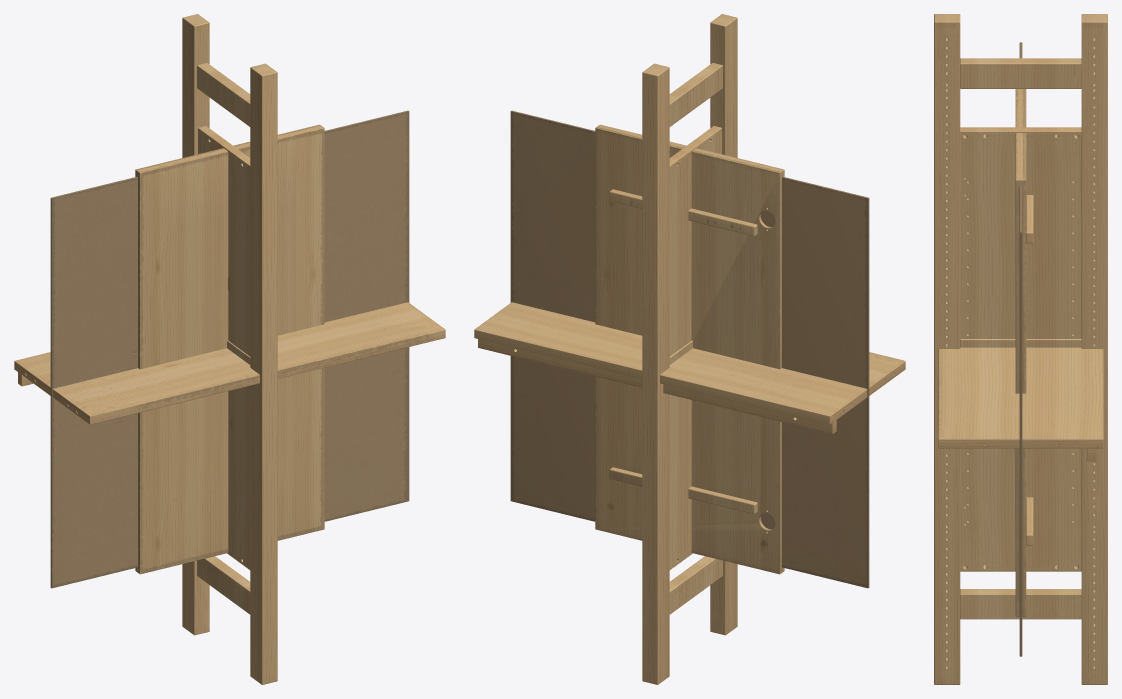
Rendered from library-aholo.glb.
3 renders of one model, left to right at view 1: azimuth 30°, elevation 25°; view 2: azimuth 150°, elevation 25°; view 3: azimuth 270°, elevation 25°, orthographic. The views are drawn at different scales.
Parts seen in each view (by area): view 1: back, door, rackSide, top, side, bottom; view 2: back, door, rackSide, top, side, bottom; view 3: rackSide, side, bottom, top, door, back.
Part boxes in pixels (box(x1,y1,x2,y2)): back: box(50, 110, 409, 588); door: box(135, 124, 324, 574); rackSide: box(182, 14, 277, 684); top: box(14, 302, 445, 424); side: box(198, 126, 250, 569); bottom: box(14, 302, 444, 422); back: box(510, 110, 869, 588); door: box(595, 124, 784, 574); rackSide: box(642, 14, 737, 684); top: box(474, 302, 905, 434); side: box(669, 126, 721, 569); bottom: box(475, 316, 904, 424); rackSide: box(934, 14, 1107, 684); side: box(946, 127, 1095, 571); bottom: box(939, 347, 1102, 448); top: box(938, 347, 1103, 461); door: box(1015, 89, 1033, 616); back: box(1019, 42, 1022, 656).
Size of the model in its own units: 0.768 by 1.25 by 0.297.
Materials: 50 (50 with a texture image).
